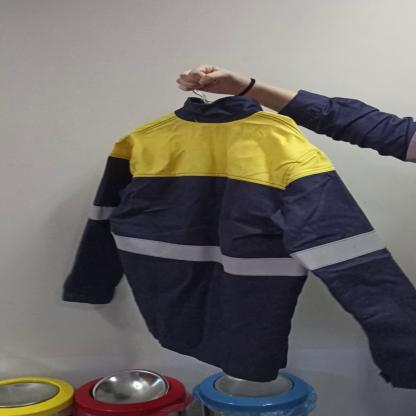C_eletrica: (63, 101, 416, 388)
